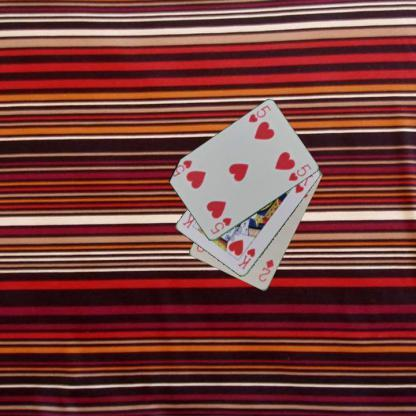2d: (256, 256, 275, 284)
5h: (245, 103, 272, 124), (207, 215, 233, 236)
Kh: (235, 245, 257, 272)
